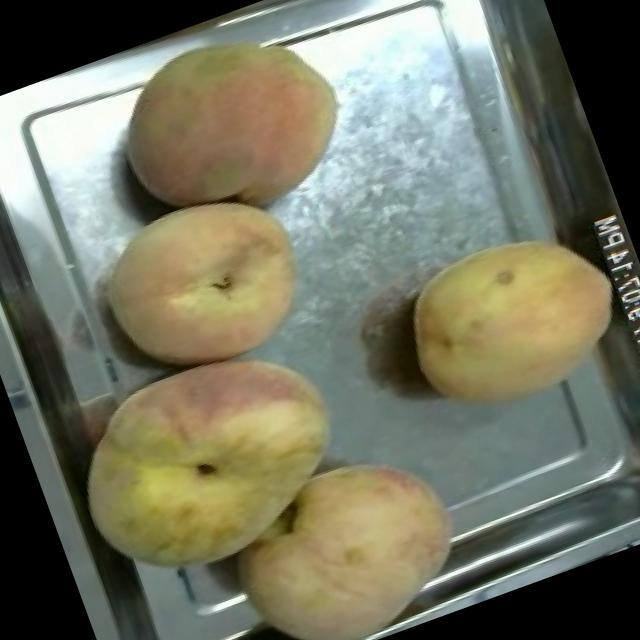Fruit: (36, 300, 384, 620), (88, 0, 370, 255), (198, 417, 492, 640), (377, 199, 640, 441), (74, 164, 336, 400)
